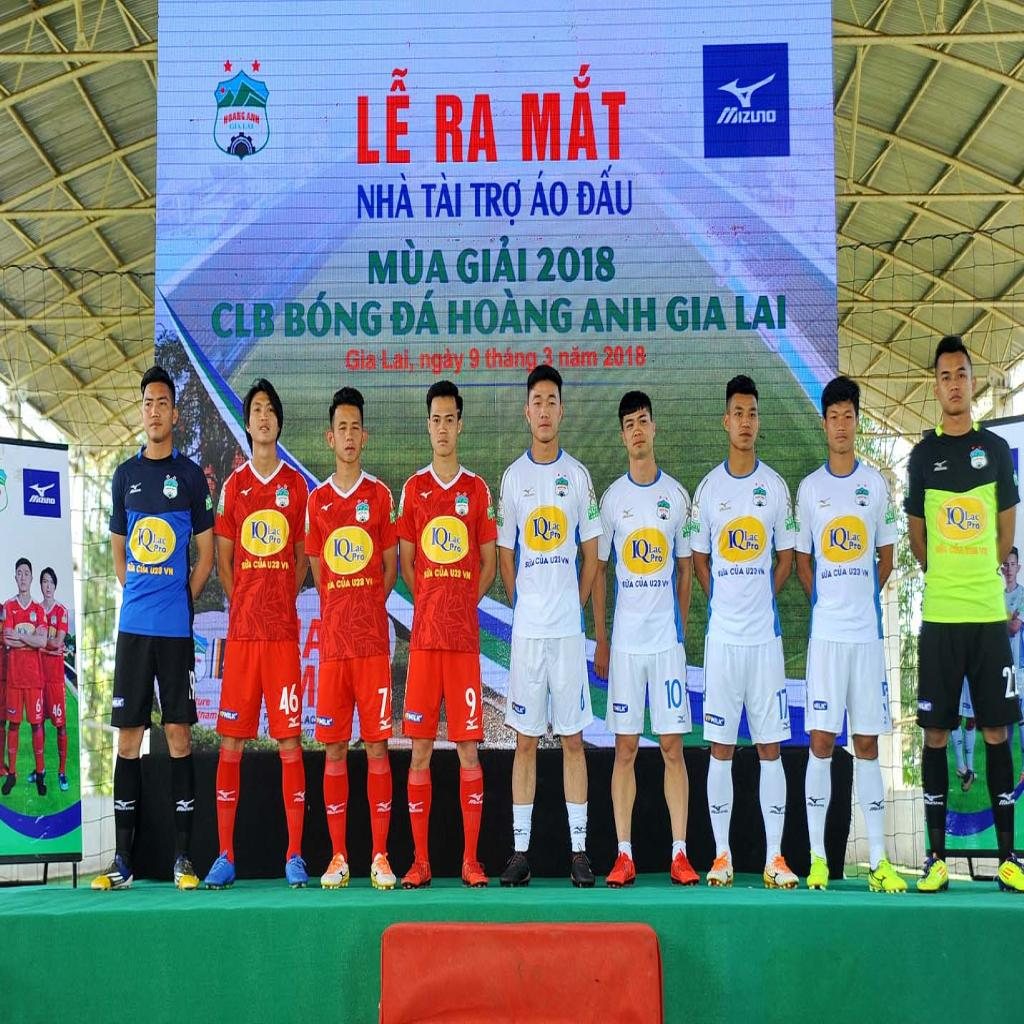text: (520, 64, 628, 162), (448, 287, 574, 337), (357, 67, 412, 164), (284, 290, 382, 340), (434, 91, 499, 164), (368, 238, 451, 286), (456, 236, 528, 287), (574, 164, 633, 217), (536, 246, 617, 284), (578, 296, 657, 334), (358, 171, 414, 220), (470, 178, 523, 227), (390, 289, 440, 338), (664, 295, 728, 333), (212, 302, 276, 339), (420, 170, 462, 220), (528, 169, 569, 219), (734, 293, 787, 331), (485, 346, 539, 376), (420, 346, 466, 378), (715, 108, 777, 126), (602, 344, 647, 368), (558, 345, 600, 369), (382, 348, 417, 376), (302, 620, 325, 662), (346, 345, 377, 373), (277, 682, 300, 718), (1000, 663, 1020, 700), (944, 505, 968, 533), (664, 677, 683, 712), (828, 524, 850, 554), (629, 538, 651, 567), (430, 526, 450, 556), (332, 537, 352, 565), (532, 516, 552, 544), (376, 686, 391, 722), (136, 526, 154, 554), (726, 528, 746, 553), (252, 520, 270, 547), (775, 688, 789, 722), (464, 686, 478, 718), (222, 108, 246, 126), (468, 345, 482, 372), (880, 680, 890, 714), (28, 496, 56, 508), (549, 554, 570, 568), (542, 345, 554, 369), (745, 564, 766, 577), (578, 682, 586, 714), (246, 110, 261, 126), (434, 564, 450, 579), (846, 528, 863, 542), (153, 532, 168, 547), (335, 577, 352, 590), (199, 711, 219, 722), (253, 556, 268, 570), (267, 524, 282, 538), (190, 672, 197, 702), (635, 576, 650, 590), (730, 563, 745, 577), (833, 563, 847, 578), (650, 578, 669, 589), (136, 563, 150, 577), (449, 542, 463, 556), (621, 577, 635, 591), (744, 528, 758, 542), (240, 556, 252, 572), (51, 702, 63, 718), (964, 509, 980, 521), (448, 533, 462, 546), (536, 552, 549, 566), (820, 566, 833, 580), (350, 542, 365, 554), (648, 544, 663, 556), (746, 540, 761, 552), (268, 558, 280, 572), (524, 556, 536, 570), (197, 698, 212, 709), (269, 534, 282, 546), (304, 713, 316, 726), (718, 565, 730, 578), (849, 540, 862, 552), (848, 566, 861, 578), (223, 712, 237, 723), (302, 728, 316, 739), (650, 554, 664, 565), (450, 568, 462, 580), (548, 520, 560, 532), (150, 566, 163, 577), (423, 567, 434, 580), (408, 714, 421, 725), (967, 520, 980, 531), (154, 545, 168, 555), (126, 561, 136, 575), (352, 552, 366, 562), (462, 570, 472, 584), (711, 716, 723, 727), (229, 121, 242, 131), (319, 719, 332, 729), (352, 577, 365, 587), (35, 697, 42, 715), (164, 567, 175, 578), (242, 122, 254, 132), (281, 560, 291, 572), (589, 506, 599, 518), (514, 706, 525, 716), (550, 532, 562, 541), (862, 567, 870, 580), (682, 525, 692, 535), (884, 511, 894, 521), (262, 724, 270, 736), (815, 702, 825, 711), (615, 706, 626, 714), (365, 578, 371, 588), (330, 581, 335, 591)
